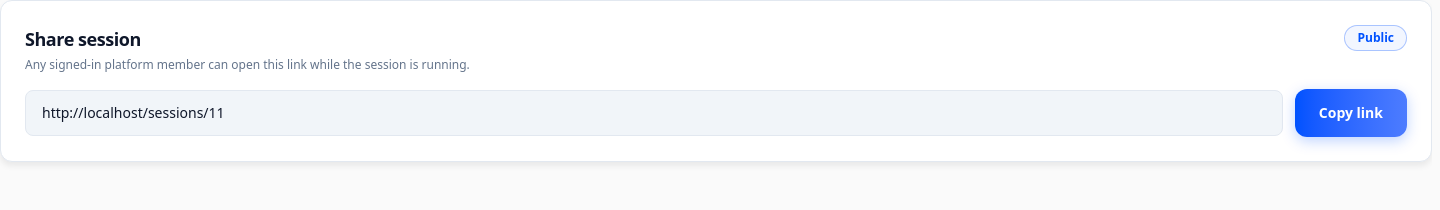
Test: SessionShareCard › shows a manual-copy hint when both copy strategies fail
Click the button with aria-label "Copy participant link": (1351, 113) top-left (1295, 89), bottom-right (1407, 137)
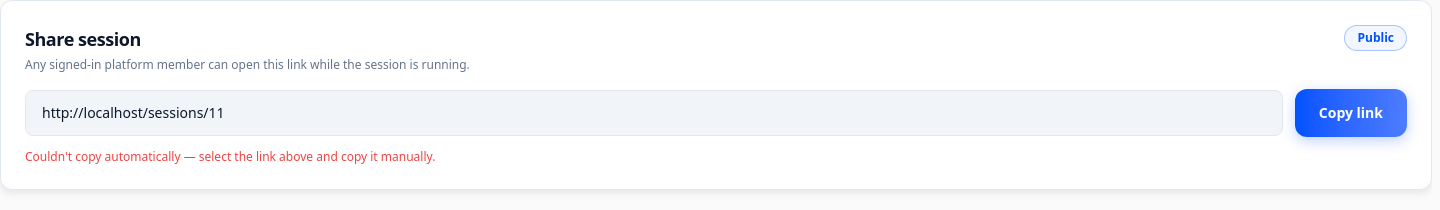
Now the message "Couldn't copy automatically — select the link above and copy it manually." is shown, box top-left (25, 148), bottom-right (435, 165)
